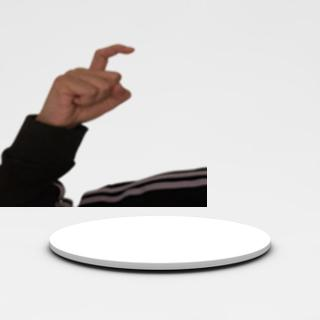WHY: (35, 40, 139, 127)
